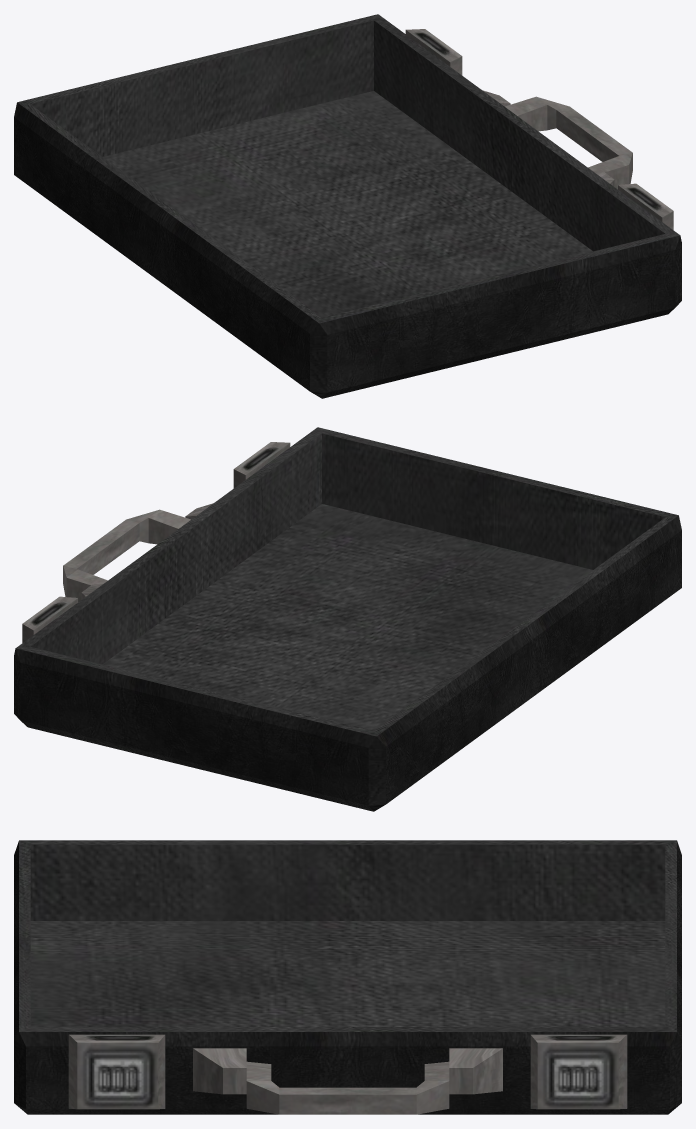
Rendered from suitcase-bottom.gltf.
The picture shows the model from 3 angles, top to bottom: view 1: azimuth 30°, elevation 25°; view 2: azimuth 150°, elevation 25°; view 3: azimuth 270°, elevation 25°; orthographic projection. The views are drawn at different scales.
Parts seen in each view (by area): view 1: Bottom; view 2: Bottom; view 3: Bottom.
Boxes of the visible parts, box(x1,y1,x2,y2) form: Bottom: box(14, 14, 681, 398); Bottom: box(14, 427, 681, 811); Bottom: box(14, 840, 681, 1114).
Size of the model in its own units: 0.4029 by 0.0699 by 0.4873.
1 material, 1 textured.
